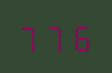seven: (18, 20, 42, 53), (44, 20, 68, 52)
six: (69, 19, 93, 52)
